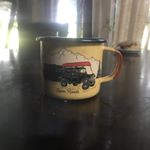cups: (33, 34, 124, 103)
